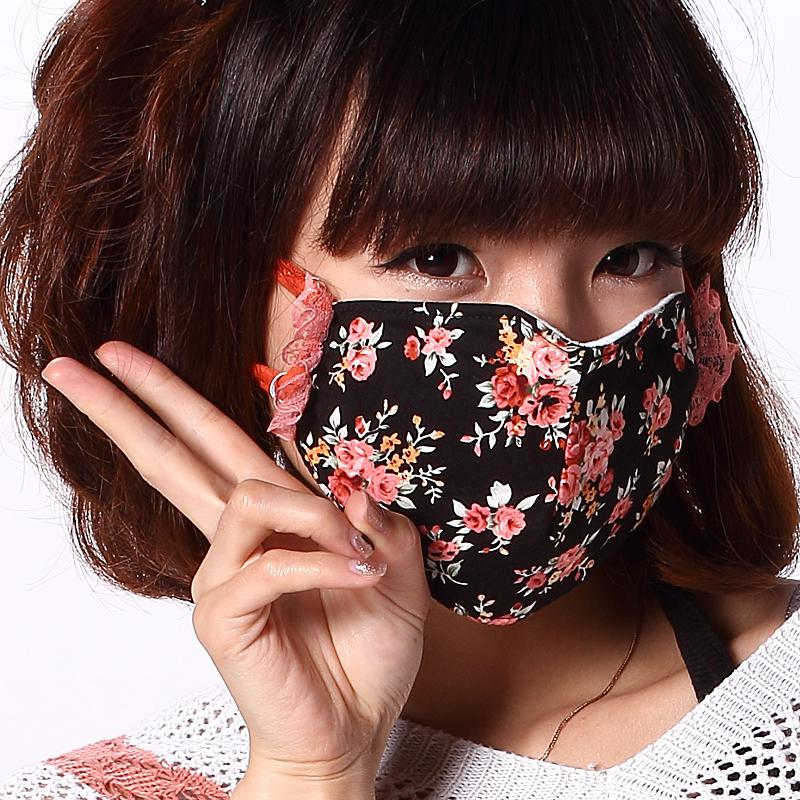OK: (261, 134, 743, 616)
